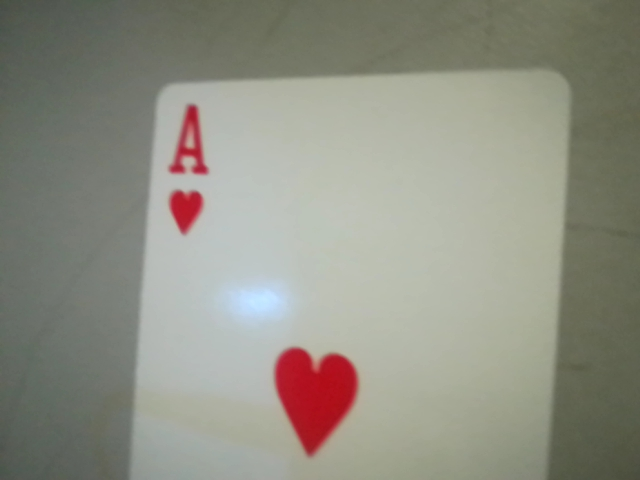hx a: (150, 92, 225, 247)
